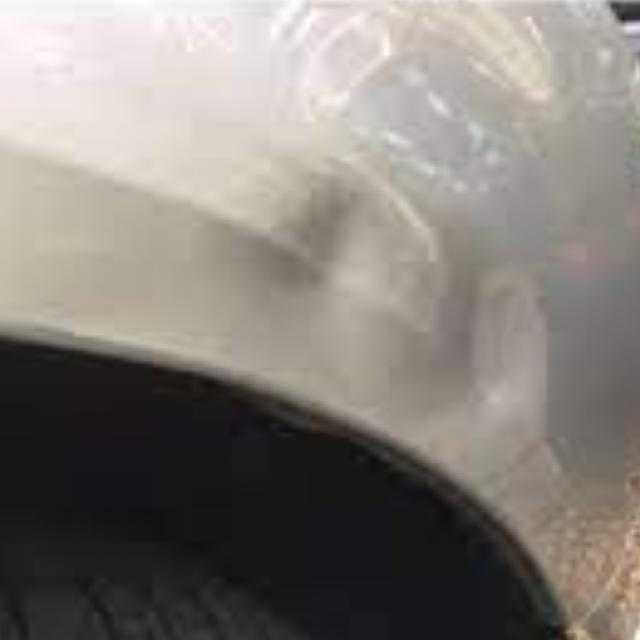dents: (244, 152, 476, 399)
